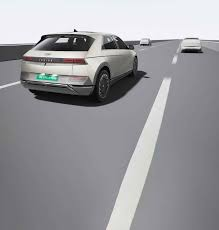Honda Ioniq: (17, 27, 140, 104)
